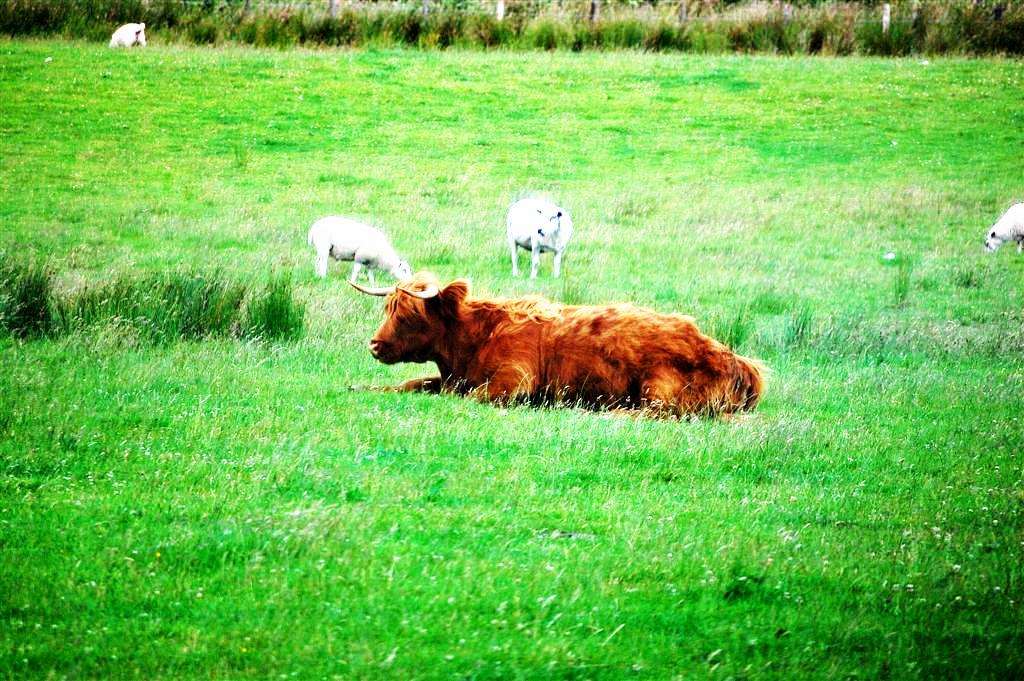Sheep: (301, 212, 410, 283), (503, 199, 573, 280), (982, 202, 1023, 254), (107, 23, 144, 47)
